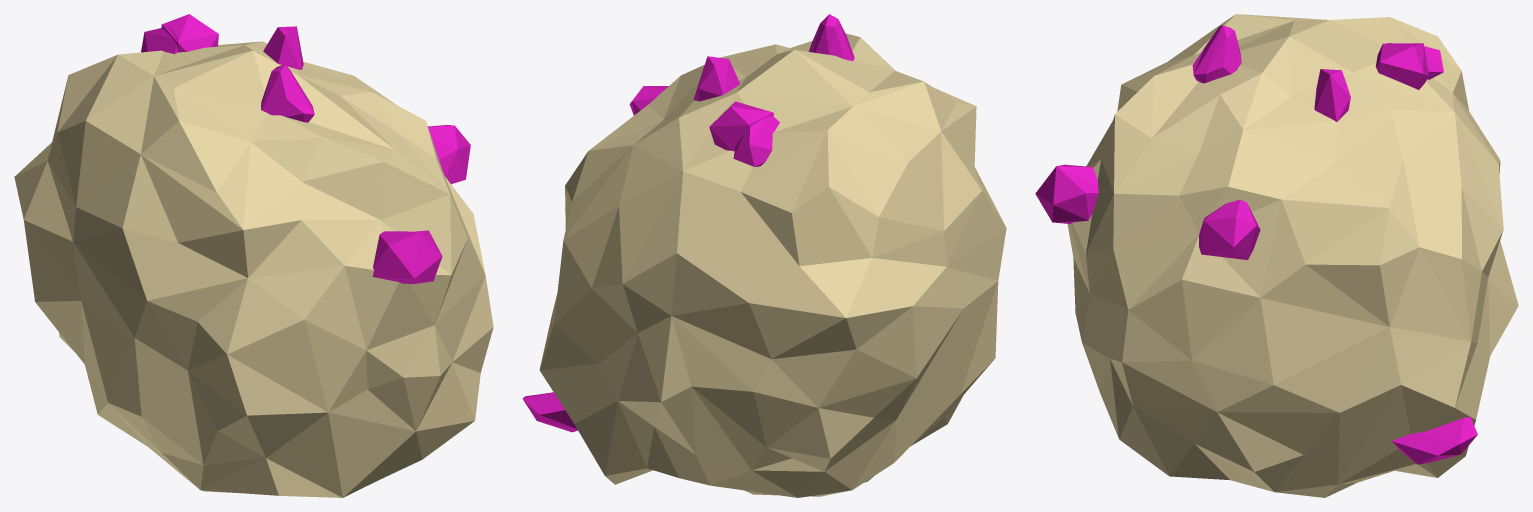
The model's file is CrystalOre (19).fbx.
3 views of the same model, side by side, from view 1: azimuth 30°, elevation 25°; view 2: azimuth 150°, elevation 25°; view 3: azimuth 270°, elevation 25° (orthographic). The views are drawn at different scales.
Parts seen in each view (by area): view 1: Asteroid239; view 2: Asteroid239; view 3: Asteroid239.
Boxes of the visible parts, x1,y1,x2,y2 form: Asteroid239: (14,14,493,497); Asteroid239: (522,14,1006,497); Asteroid239: (1035,14,1518,497).
Size of the model in its own units: 529 by 599 by 612.
